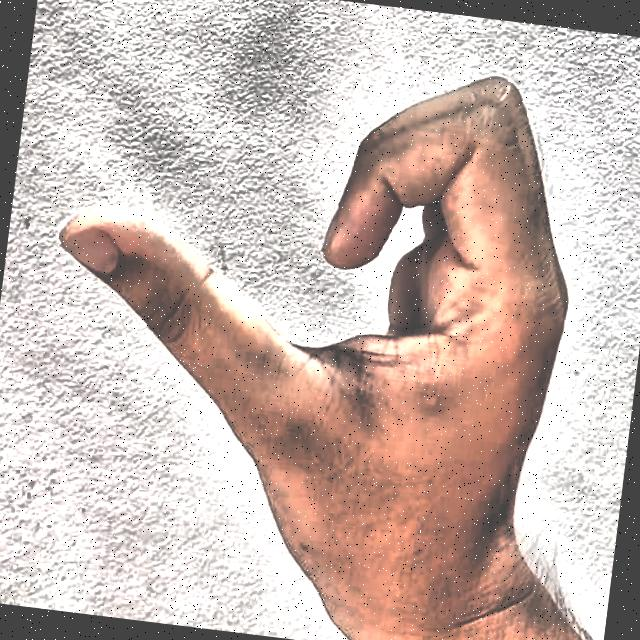Kha: (0, 0, 625, 640)
